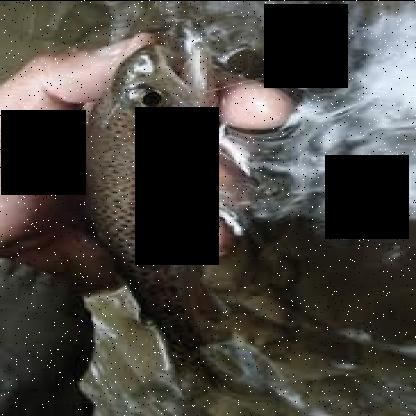fish: (74, 40, 260, 387)
